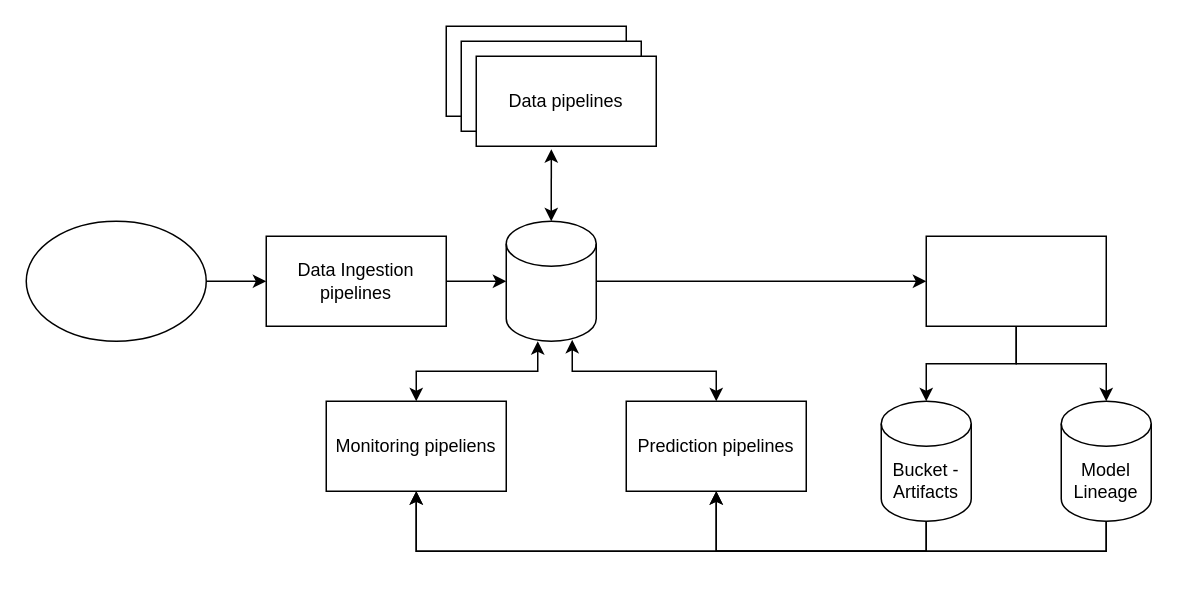
The diagram is 1178 pixels wide and 590 high, and some of its shapes have lost their labels. The shapes that lost their labels are listed below. From the top down, each one's centre as x and y in pixels, then its label:
At point (115, 280): "IoT devices / Sensors".
At point (550, 280): "Data Warehouse".
At point (1015, 280): "Training pipelines".
